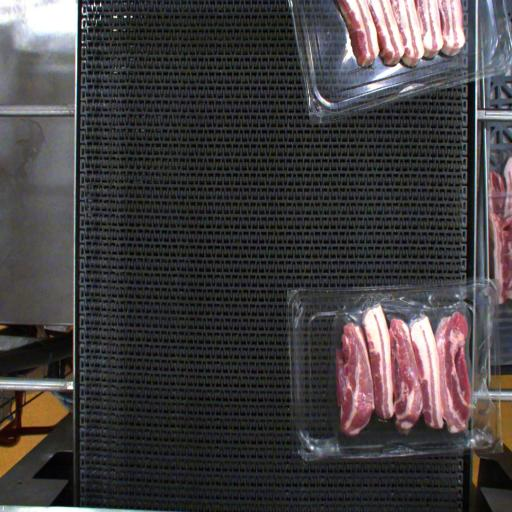unsealed: (318, 288, 496, 416)
